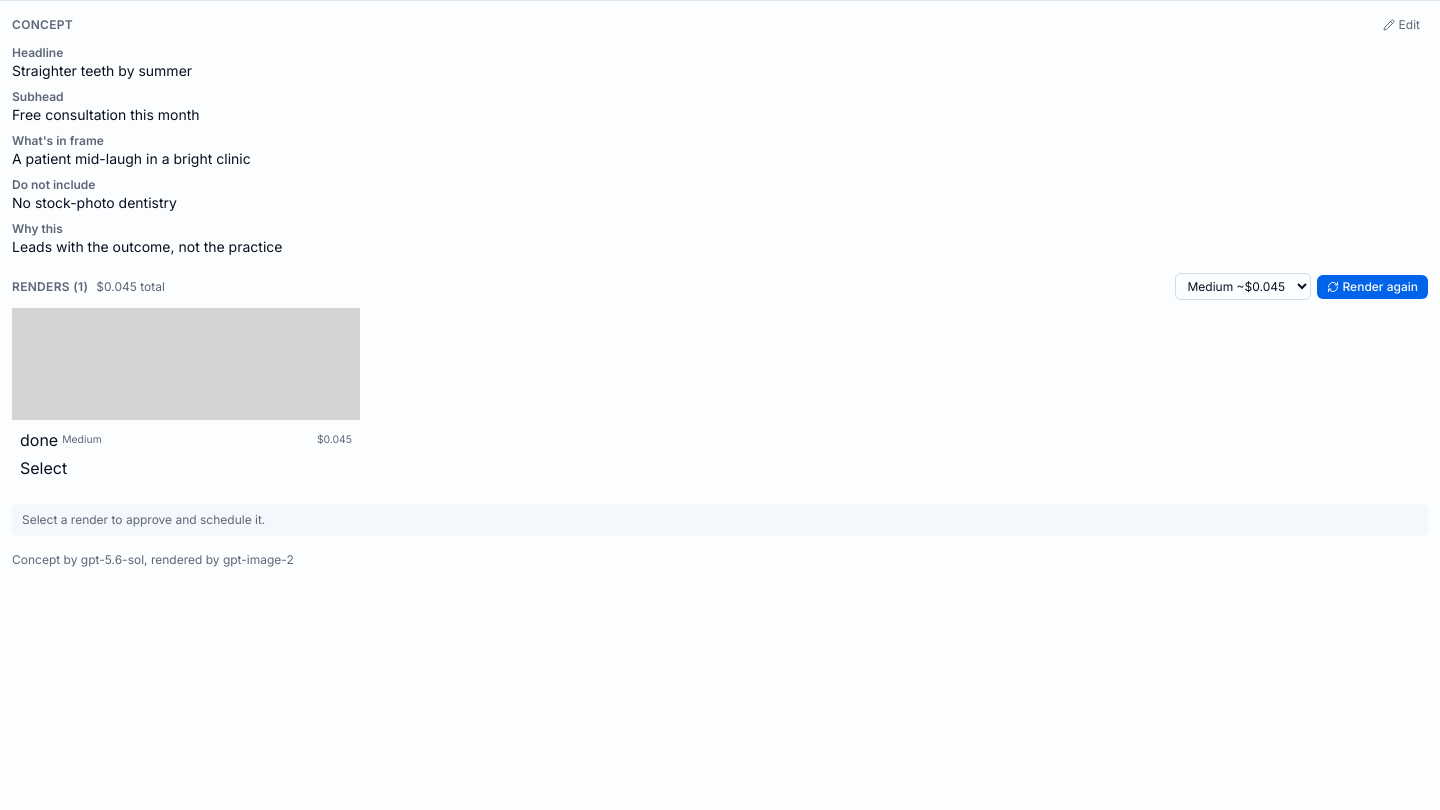
Test: ConceptWorkspace — editing the concept › discards the draft on cancel
Click the button "Edit": (1401, 25) [1375, 13, 1428, 37]
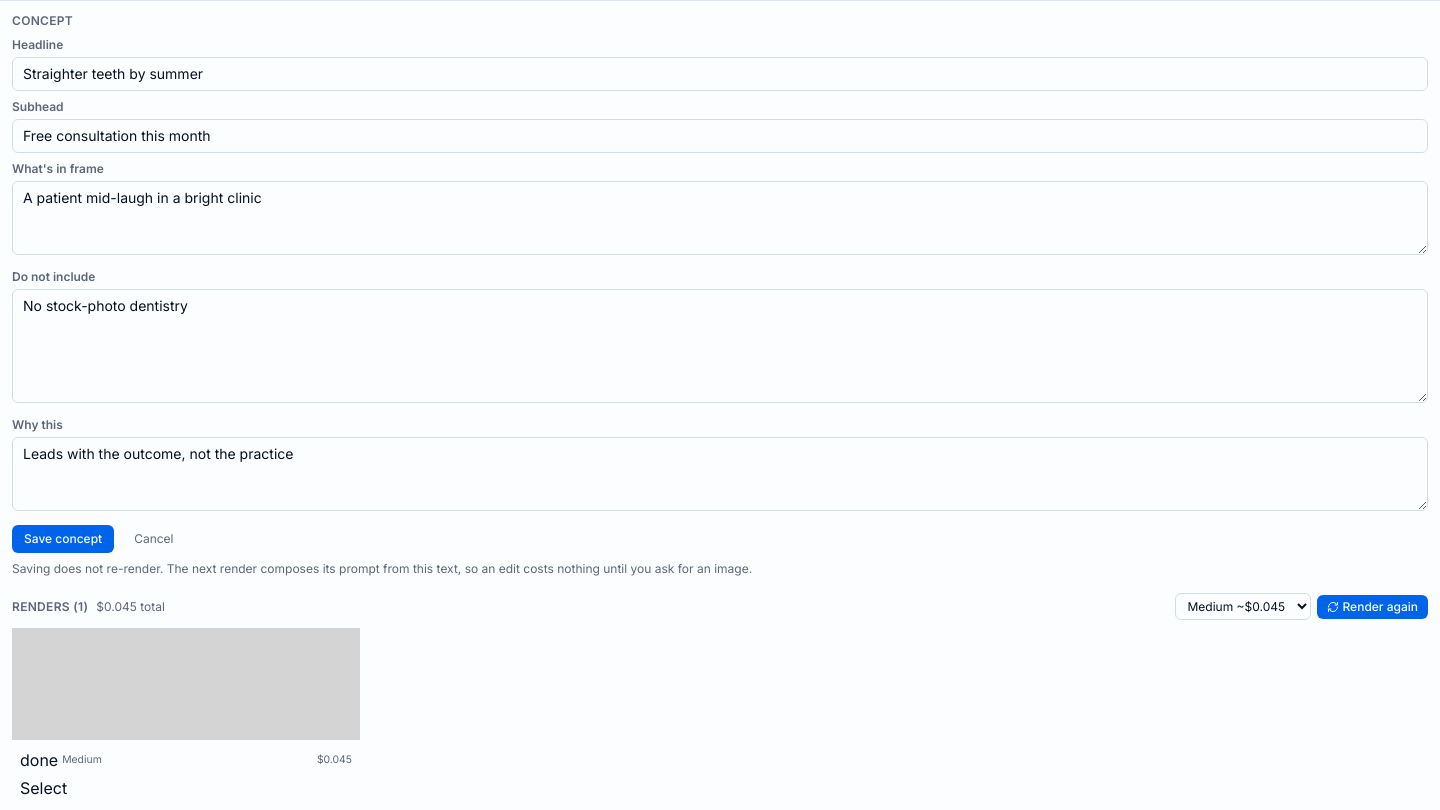
Clear the field showing "Straighter teeth by summer": (720, 74) [12, 57, 1428, 91]
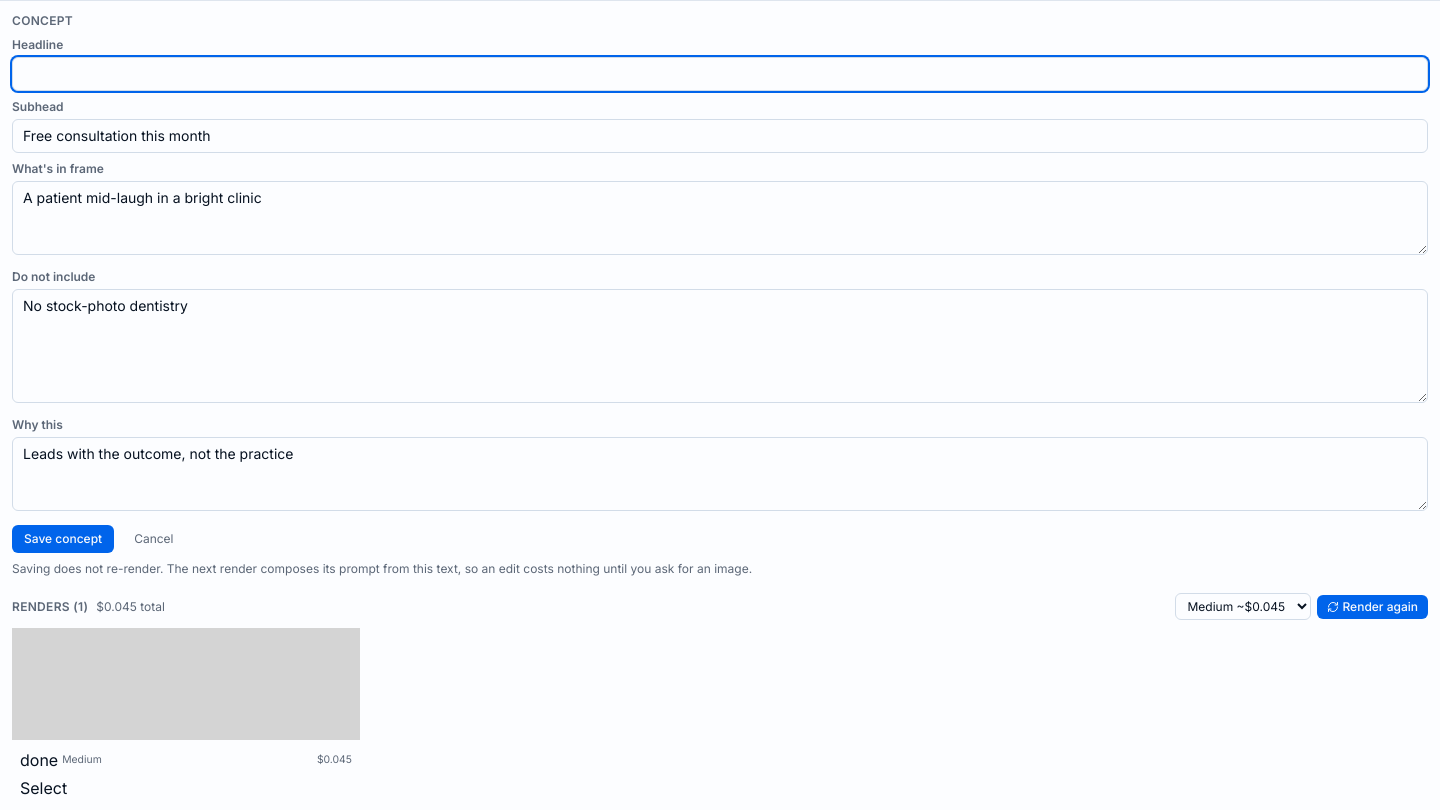
Click the button "Cancel": (154, 539) [122, 525, 186, 553]
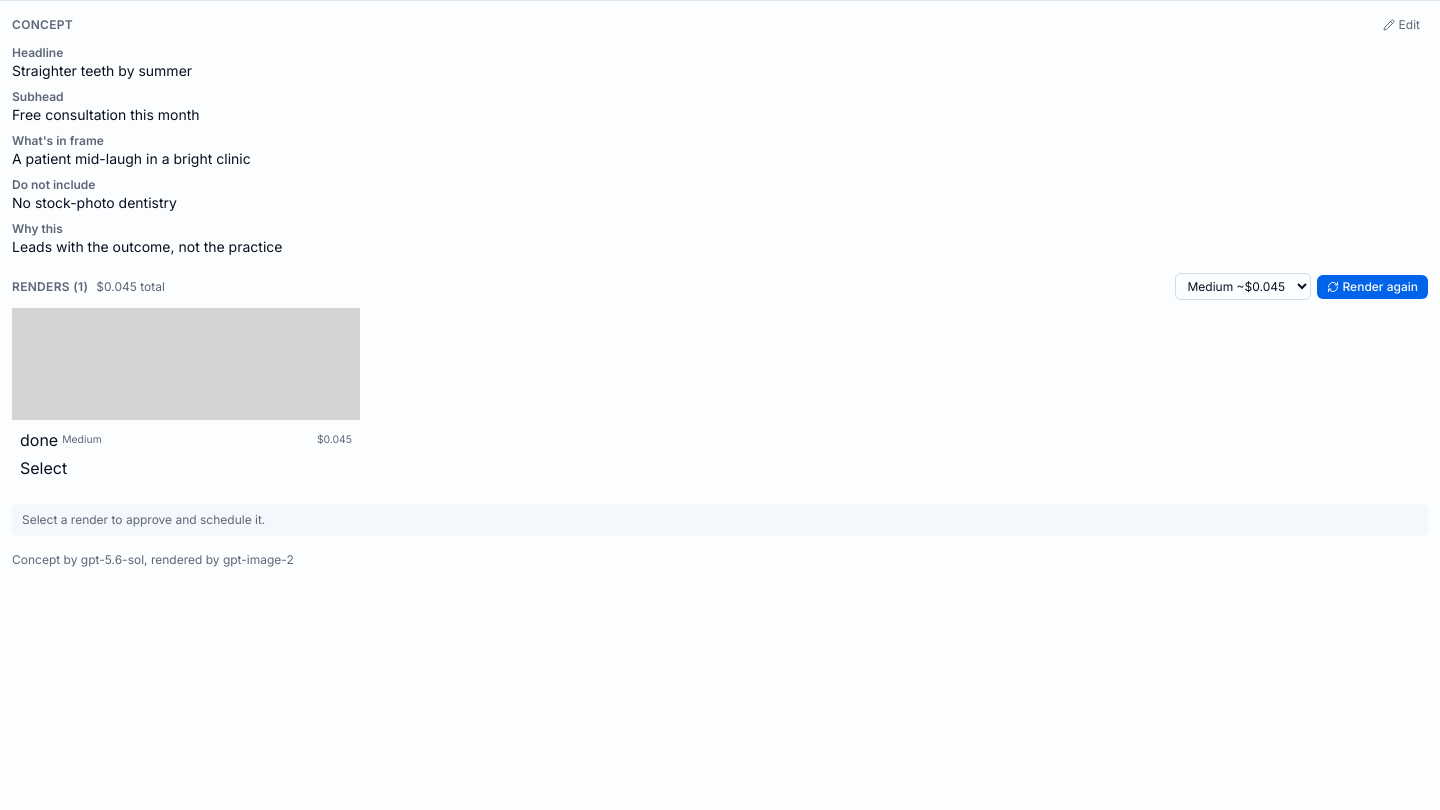
Expected: the text "Straighter teeth by summer" is shown, [12, 62, 192, 79]
